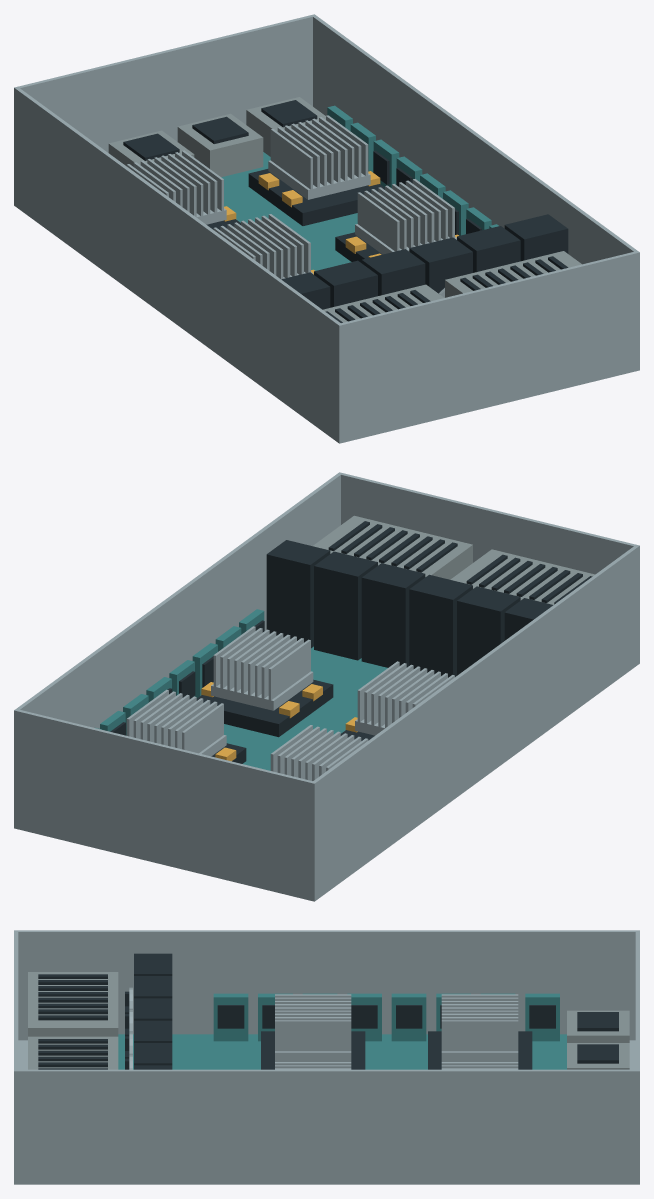
The model's file is server-node.glb.
3 renders of one model, top to bottom at view 1: azimuth 30°, elevation 25°; view 2: azimuth 150°, elevation 25°; view 3: azimuth 270°, elevation 25°, orthographic. The views are drawn at different scales.
Visible parts, largest first — view 1: Chassis, Accelerators, Fans, SSD, PowerSupply, Mainboard, DRAM, HBM; view 2: Chassis, Fans, Accelerators, PowerSupply, Mainboard, DRAM, HBM; view 3: Chassis, Accelerators, PowerSupply, DRAM, Mainboard, Fans, SSD.
Boxes of the visible parts, x1,y1,x2,y2 form: Chassis: (14, 14, 639, 443); Accelerators: (126, 115, 456, 279); Fans: (281, 214, 568, 309); SSD: (108, 97, 325, 177); PowerSupply: (323, 251, 581, 322); Mainboard: (221, 152, 357, 270); DRAM: (327, 105, 498, 235); HBM: (224, 171, 458, 274); Chassis: (14, 472, 639, 901); Fans: (266, 540, 553, 677); Accelerators: (126, 626, 454, 780); PowerSupply: (312, 515, 594, 604); Mainboard: (224, 646, 387, 770); DRAM: (95, 609, 264, 735); HBM: (201, 682, 357, 761); Chassis: (14, 930, 639, 1184); Accelerators: (261, 994, 532, 1069); PowerSupply: (28, 972, 118, 1069); DRAM: (213, 993, 559, 1041); Mainboard: (118, 1034, 566, 1069); Fans: (125, 953, 172, 1069); SSD: (567, 1010, 629, 1069).
Bounding box in the file's own units: 0.48 × 0.18 × 0.9.
